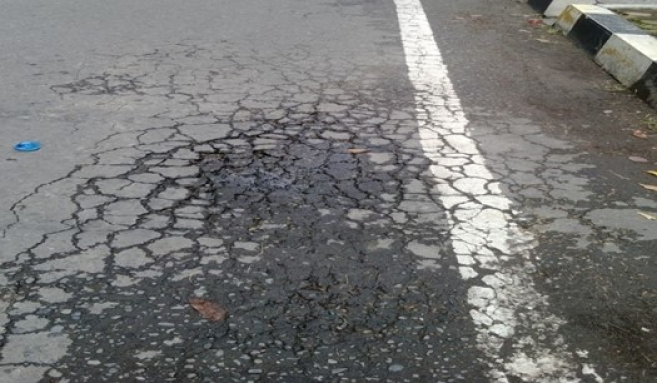Retak Buaya: (8, 69, 579, 374)
